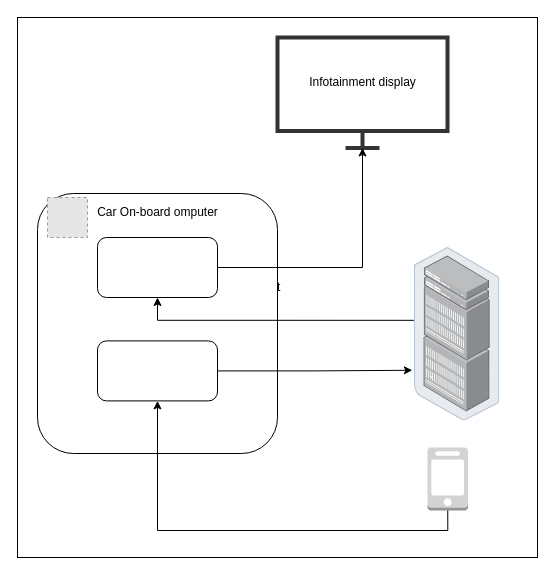
The diagram is 555 pixels wide and 575 high, and some of its shapes have lost their labels. Grey dashed boxes stand in for pictures. The shapes that lost their labels are listed below. From the top down, each one's box as (x1, y1, x2, y2) in pixels, then its label:
(96, 236, 218, 298): Python infotainment backend
(96, 340, 218, 401): Python backend for mobile
